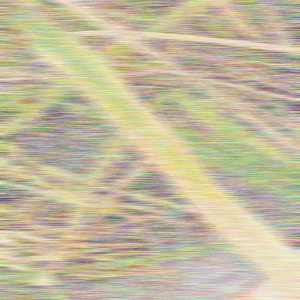Leaf_Blast: (91, 65, 183, 178)
